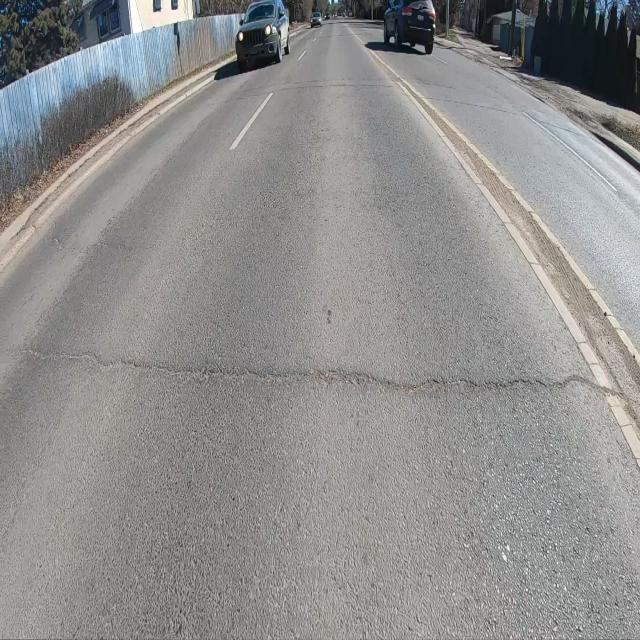GRIETA: (31, 352, 596, 394)
